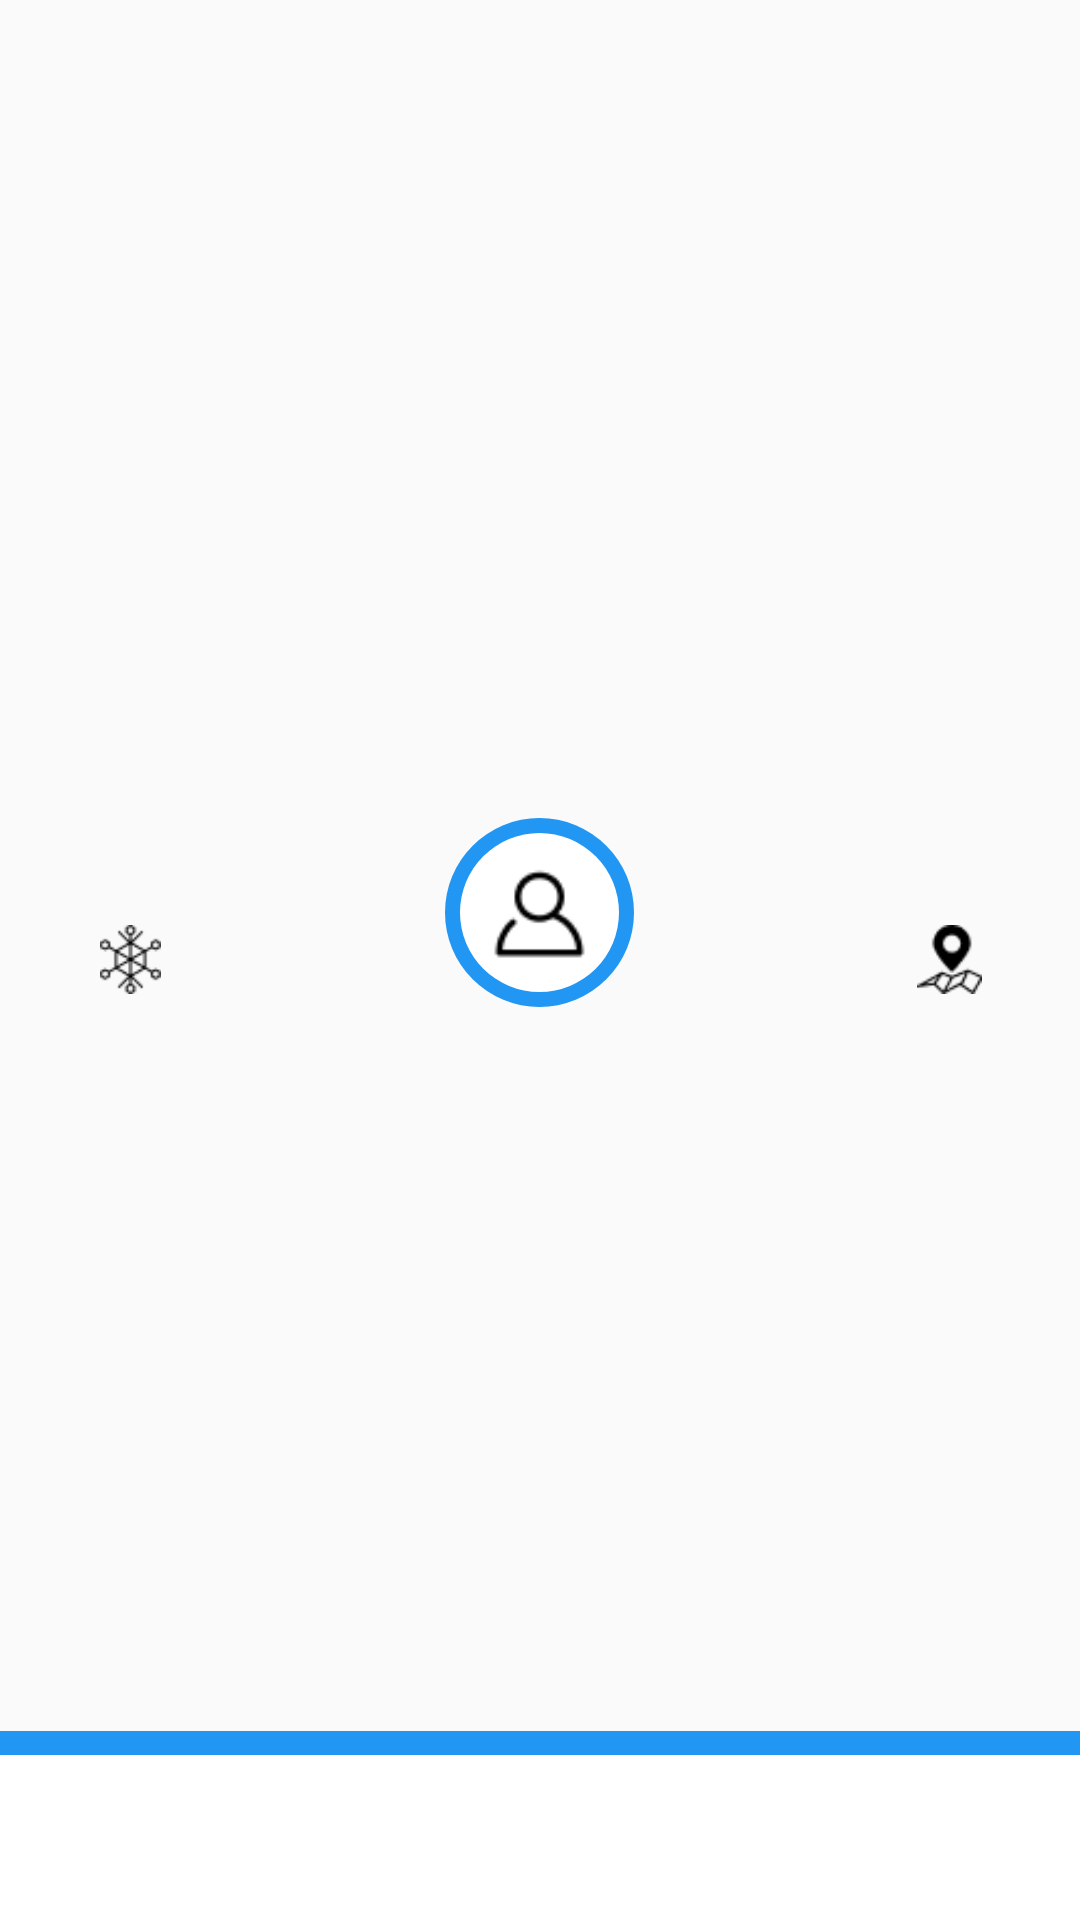

Named icons in this screenshot (1080 x 1920) and their centers, (x=x, y=y):
Open Map: (x=949, y=959)
Profile Icon: (x=539, y=914)
